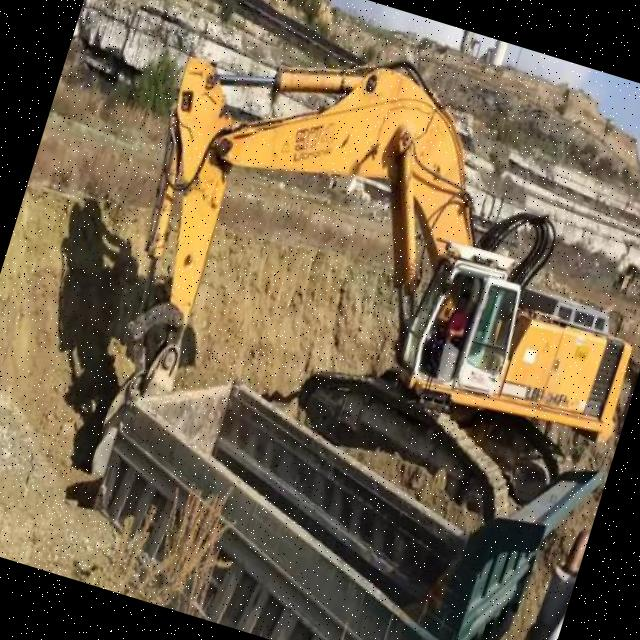Dump Truck: (64, 322, 610, 640)
Excavator: (60, 0, 640, 616)
